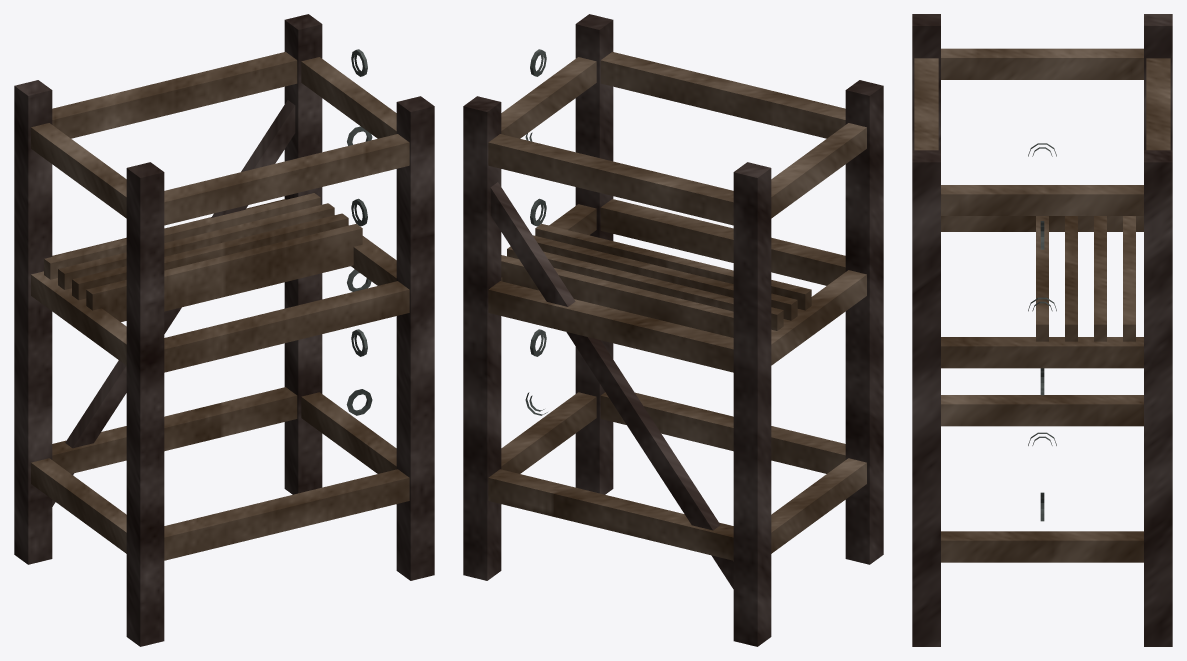
File: 0441_scaffolding_16.glb
3 views of the same model, side by side, from view 1: azimuth 30°, elevation 25°; view 2: azimuth 150°, elevation 25°; view 3: azimuth 270°, elevation 25° (orthographic). The views are drawn at different scales.
Parts seen in each view (by area): view 1: wood, wood_dark, iron; view 2: wood, wood_dark, iron; view 3: wood, wood_dark, iron.
Boxes of the visible parts, x1,y1,x2,y2 form: wood: (31, 52, 409, 560); wood_dark: (14, 14, 434, 646); iron: (346, 49, 372, 415); wood: (488, 52, 866, 560); wood_dark: (463, 14, 883, 646); iron: (525, 49, 547, 415); wood: (914, 48, 1170, 562); wood_dark: (912, 14, 1172, 646); iron: (1028, 143, 1056, 521).
Bounding box in the file's own units: 1.59 × 2.49 × 1.18.
Materials: 3 (3 with a texture image).
